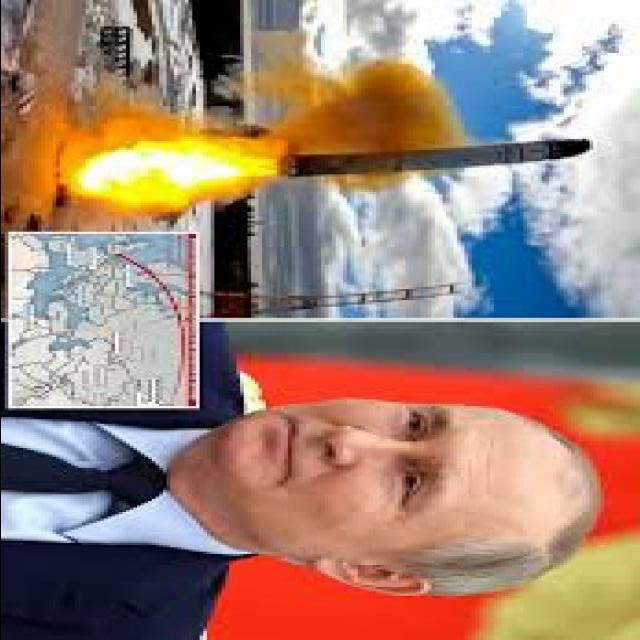Missile: (277, 137, 600, 182)
